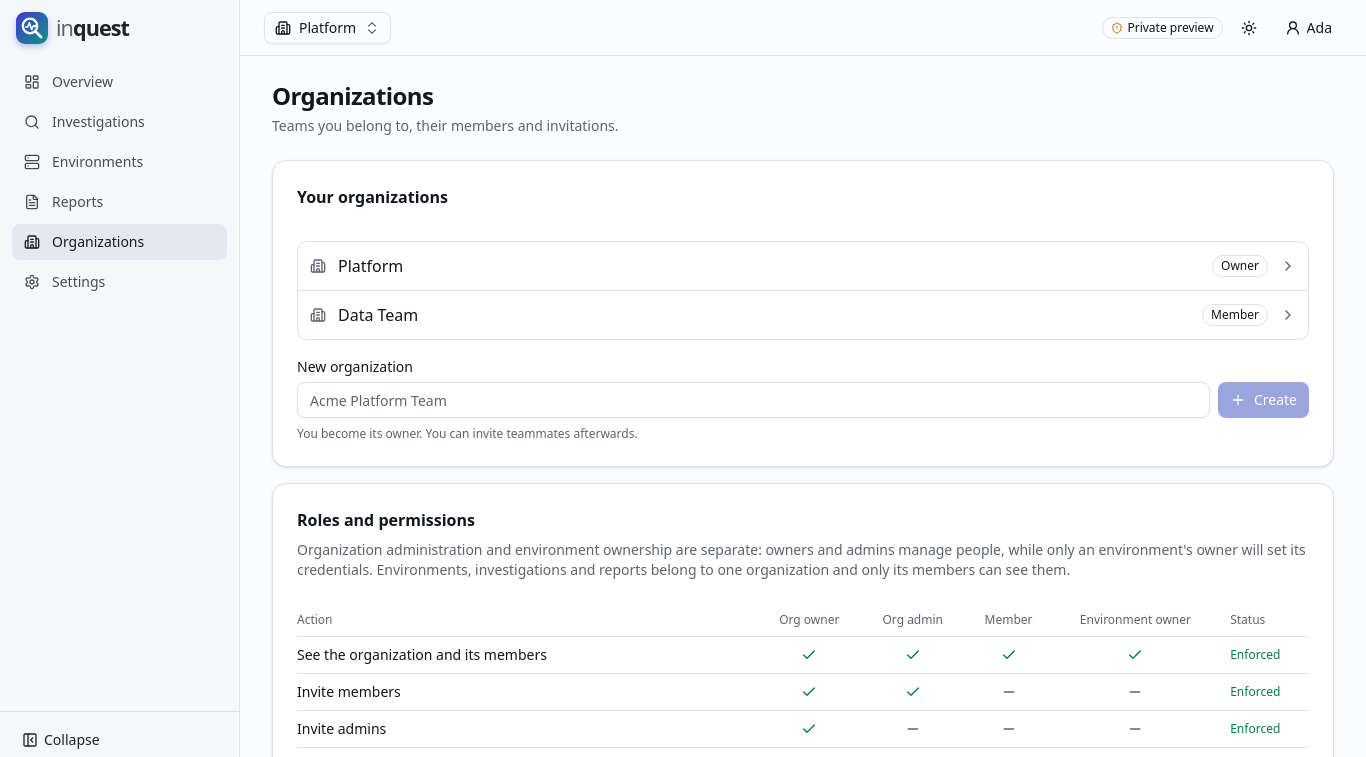
organizations › lists memberships and switches organization from the header
This screenshot has width=1366, height=757.
Expected: the text "Data Team" is shown, [338, 304, 418, 326]
Click the button named "switch organization" at (328, 28), box [264, 12, 391, 44]
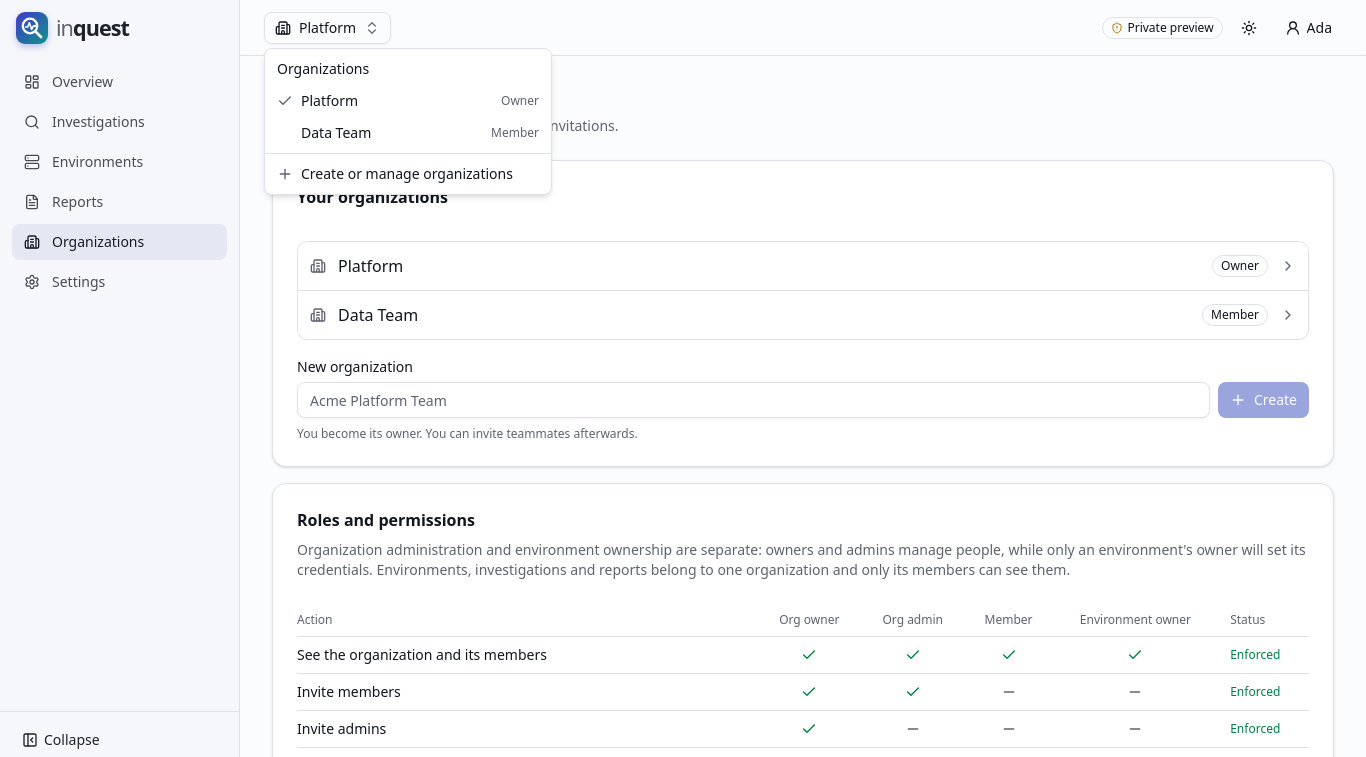
Click the menu item "Data Team Member" at (336, 132), box [301, 123, 539, 142]
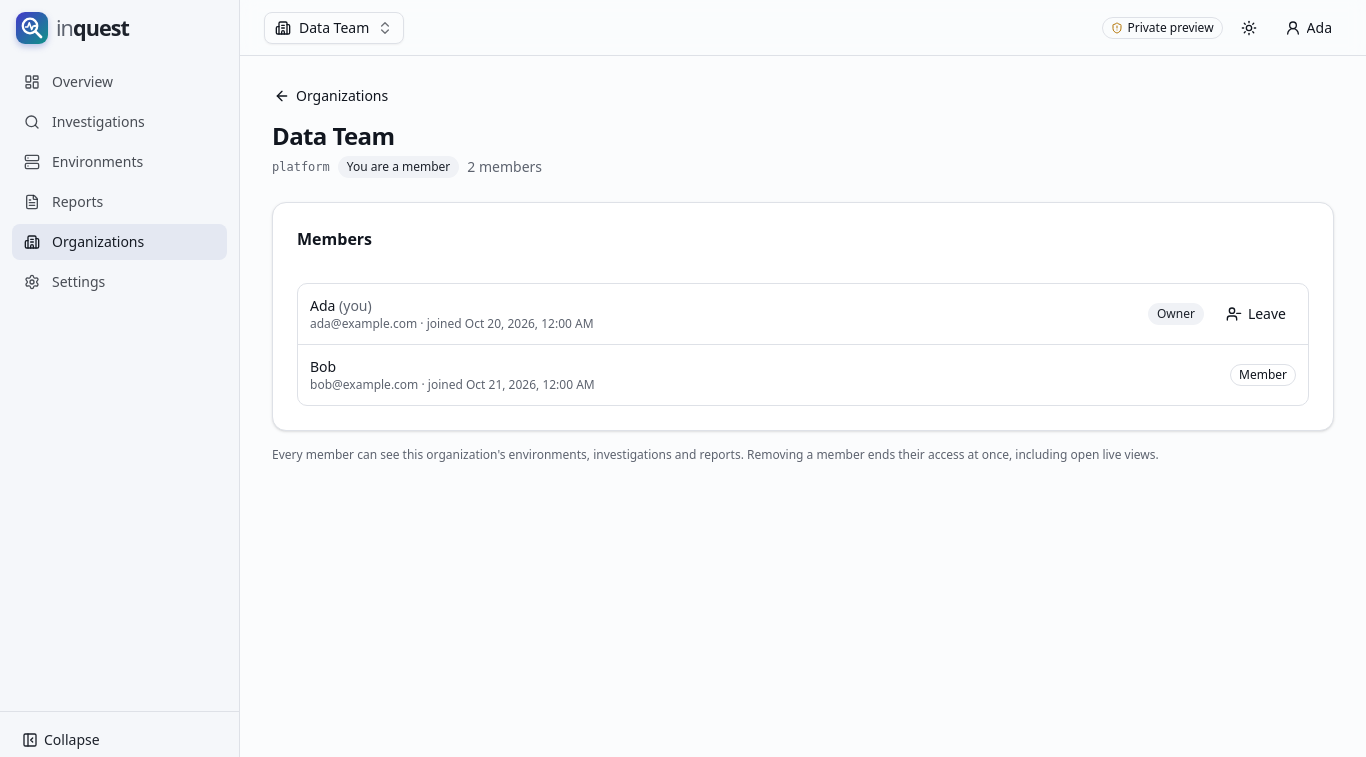
Now the button named "switch organization" reads "Data Team", box [264, 12, 404, 44]
Now the list named "Members" is shown, box [297, 283, 1309, 406]
Now the text "invitations" is gone
